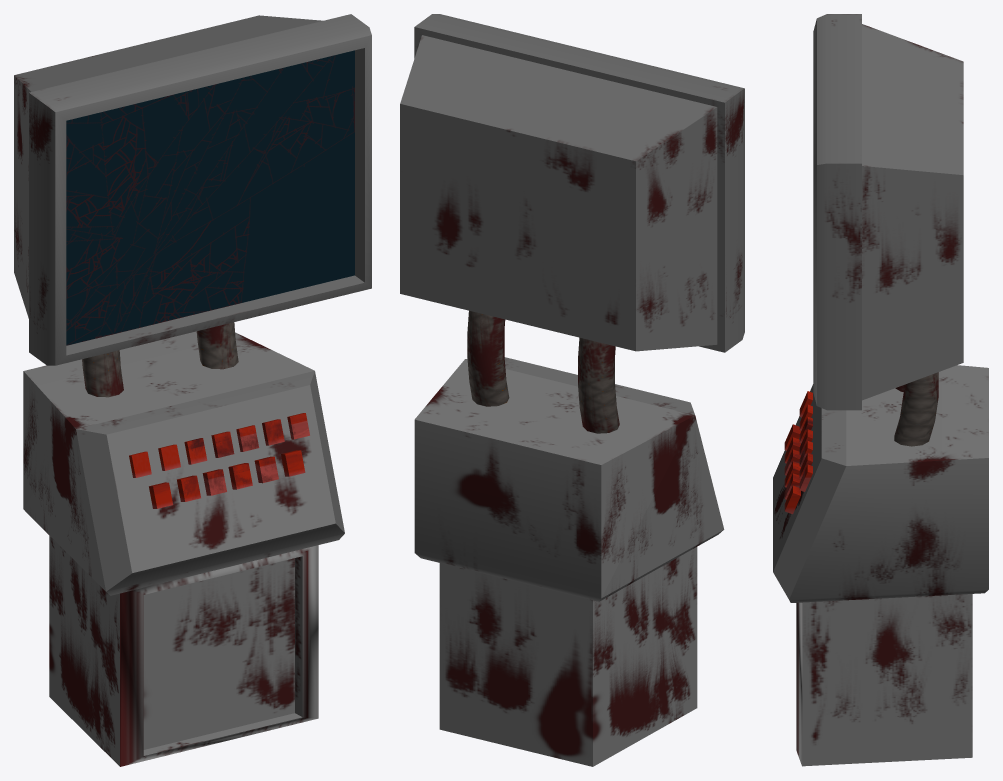
The model's file is pc laboratorio.glb.
3 renders of one model, left to right at view 1: azimuth 30°, elevation 25°; view 2: azimuth 150°, elevation 25°; view 3: azimuth 270°, elevation 25°, orthographic. The views are drawn at different scales.
Visible parts, largest first — view 1: Box003; view 2: Box003; view 3: Box003.
Boxes of the visible parts, x1=… form: Box003: x1=14, y1=14, x2=371, y2=766; Box003: x1=400, y1=14, x2=744, y2=766; Box003: x1=773, y1=14, x2=988, y2=766.
Bounding box in the file's own units: 1.81 × 3.57 × 1.1.
6 materials, 5 textured.
